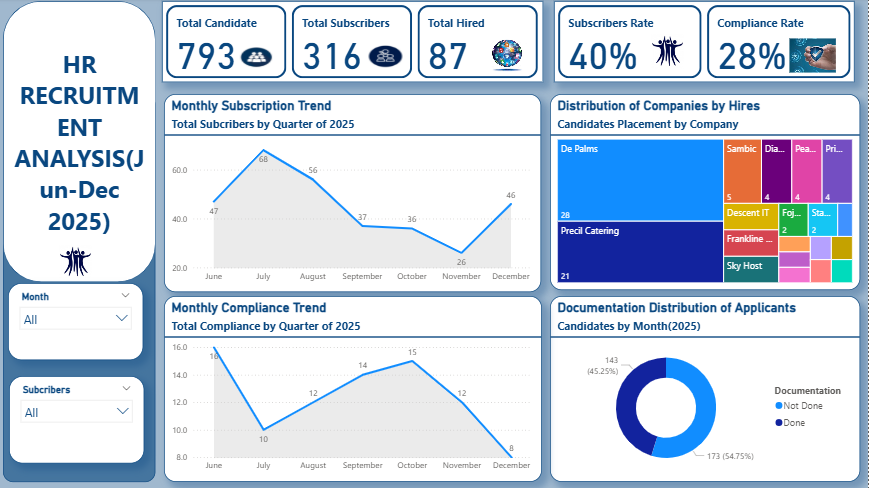

What the dashboard file says about the page in this screenshot:
{"tool":"powerbi","page":{"name":"Dashboard  2","canvas":[1280,720],"ordinal":1},"visuals":[{"type":"textbox","box":[13.3,140,223.3,568.3],"z":0},{"type":"lineChart","title":"Monthly Subscription Trend","fields":{"Y":["CountNonNull(Subcribers Data.Name)"],"Category":["Subcribers Data.Registration_Date2.Variation.Date Hierarchy.Month"]},"box":[248.3,140,551.7,290],"z":1000},{"type":"treemap","title":"Distribution of Companies by Hires","fields":{"Group":["Compliance Data.Company"],"Values":["CountNonNull(Compliance Data.Names)"]},"box":[813,141.1,453.5,287.2],"z":2000},{"type":"donutChart","title":"Documentation Distribution of Applicants ","fields":{"Category":["Subcribers Data.Documentation"],"Y":["CountNonNull(Subcribers Data.Name)"]},"box":[813,436.7,453.5,272.1],"z":3000},{"type":"cardVisual","title":"Gender Distribution","fields":{"Data":["CountNonNull(Candidate Data.candidate_name)","CountNonNull(Subcribers Data.Name)","CountNonNull(Compliance Data.Names)"]},"box":[245.2,5,557.7,119.3],"z":4000},{"type":"shape","box":[13.4,5,223.4,411.5],"z":5000},{"type":"image","box":[89,356.1,60.5,60.5],"z":6000},{"type":"image","box":[542.6,63.8,60.5,42],"z":7000},{"type":"image","box":[352.8,65.5,63.8,42],"z":8000},{"type":"slicer","title":"Gender Distribution","fields":{"Values":["Candidate Data.date_applied.Variation.Date Hierarchy.Month"]},"box":[20.2,416.6,198.2,112.5],"z":9000},{"type":"image","box":[719,55.4,65.5,60.5],"z":10000},{"type":"slicer","title":"Gender Distribution","fields":{"Values":["Compliance Data.Names"]},"box":[21.8,552.7,198.2,127.7],"z":11000},{"type":"lineChart","title":"Monthly Compliance  Trend","fields":{"Category":["Compliance Data.Date of Resumption.Variation.Date Hierarchy.Month"],"Y":["CountNonNull(Compliance Data.Names)"]},"box":[248.6,436.7,552.7,272.1],"z":12000},{"type":"cardVisual","title":"Gender Distribution","fields":{"Data":["Subcribers Data.Subscribers Conversion%","Compliance Data.Compliance Rate %"]},"box":[819.7,5,440.1,119.3],"z":13000},{"type":"image","box":[1159,54.1,77.6,60],"z":14000},{"type":"image","box":[955.6,46.8,60,61.5],"z":15000}]}

Visuals, with their boxes in screenshot pixels (x1, y1, x2, y2), scaled from the page's 1280x720 canvas onto the 869x488 screenshot:
textbox: 9,95,161,480
"Monthly Subscription Trend" lineChart: 169,95,543,291
"Distribution of Companies by Hires" treemap: 552,96,860,290
"Documentation Distribution of Applicants " donutChart: 552,296,860,480
"Gender Distribution" cardVisual: 166,3,545,84
shape: 9,3,161,282
image: 60,241,101,282
image: 368,43,409,72
image: 240,44,283,73
"Gender Distribution" slicer: 14,282,148,359
image: 488,38,533,79
"Gender Distribution" slicer: 15,375,149,461
"Monthly Compliance  Trend" lineChart: 169,296,544,480
"Gender Distribution" cardVisual: 556,3,855,84
image: 787,37,840,77
image: 649,32,689,73
